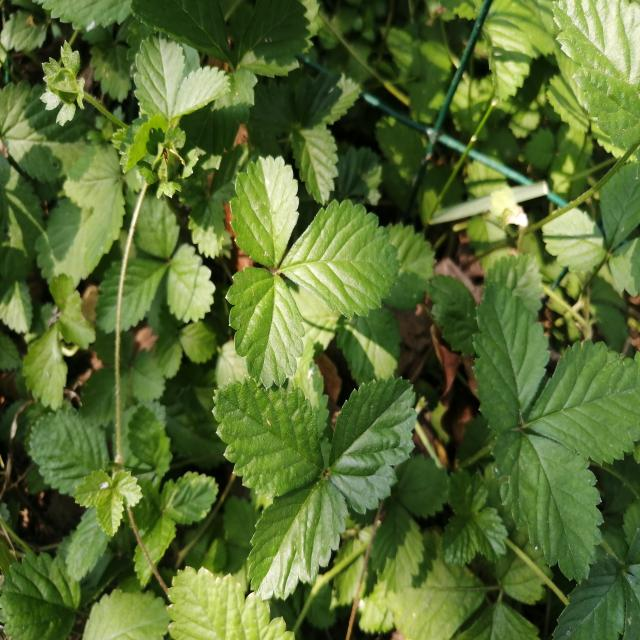Mock_strawberry: (218, 368, 420, 581)
